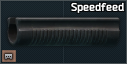M870 SpeedFeed short handguard: (0, 0, 127, 64)
